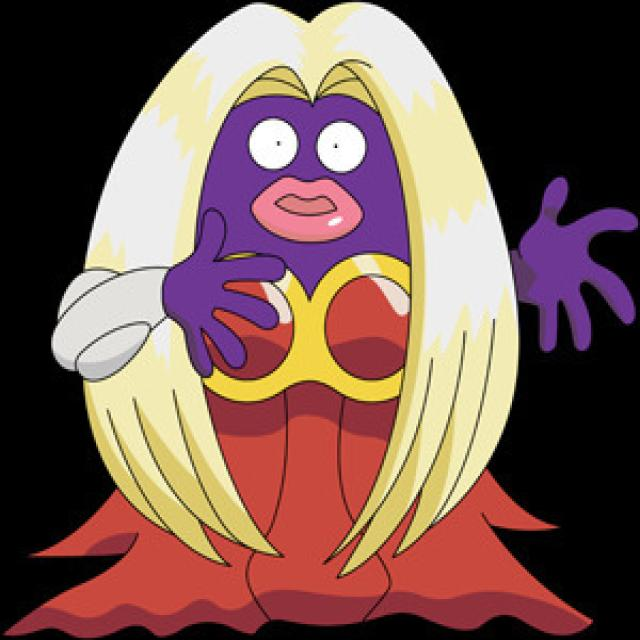Jynx: (45, 10, 566, 576)
